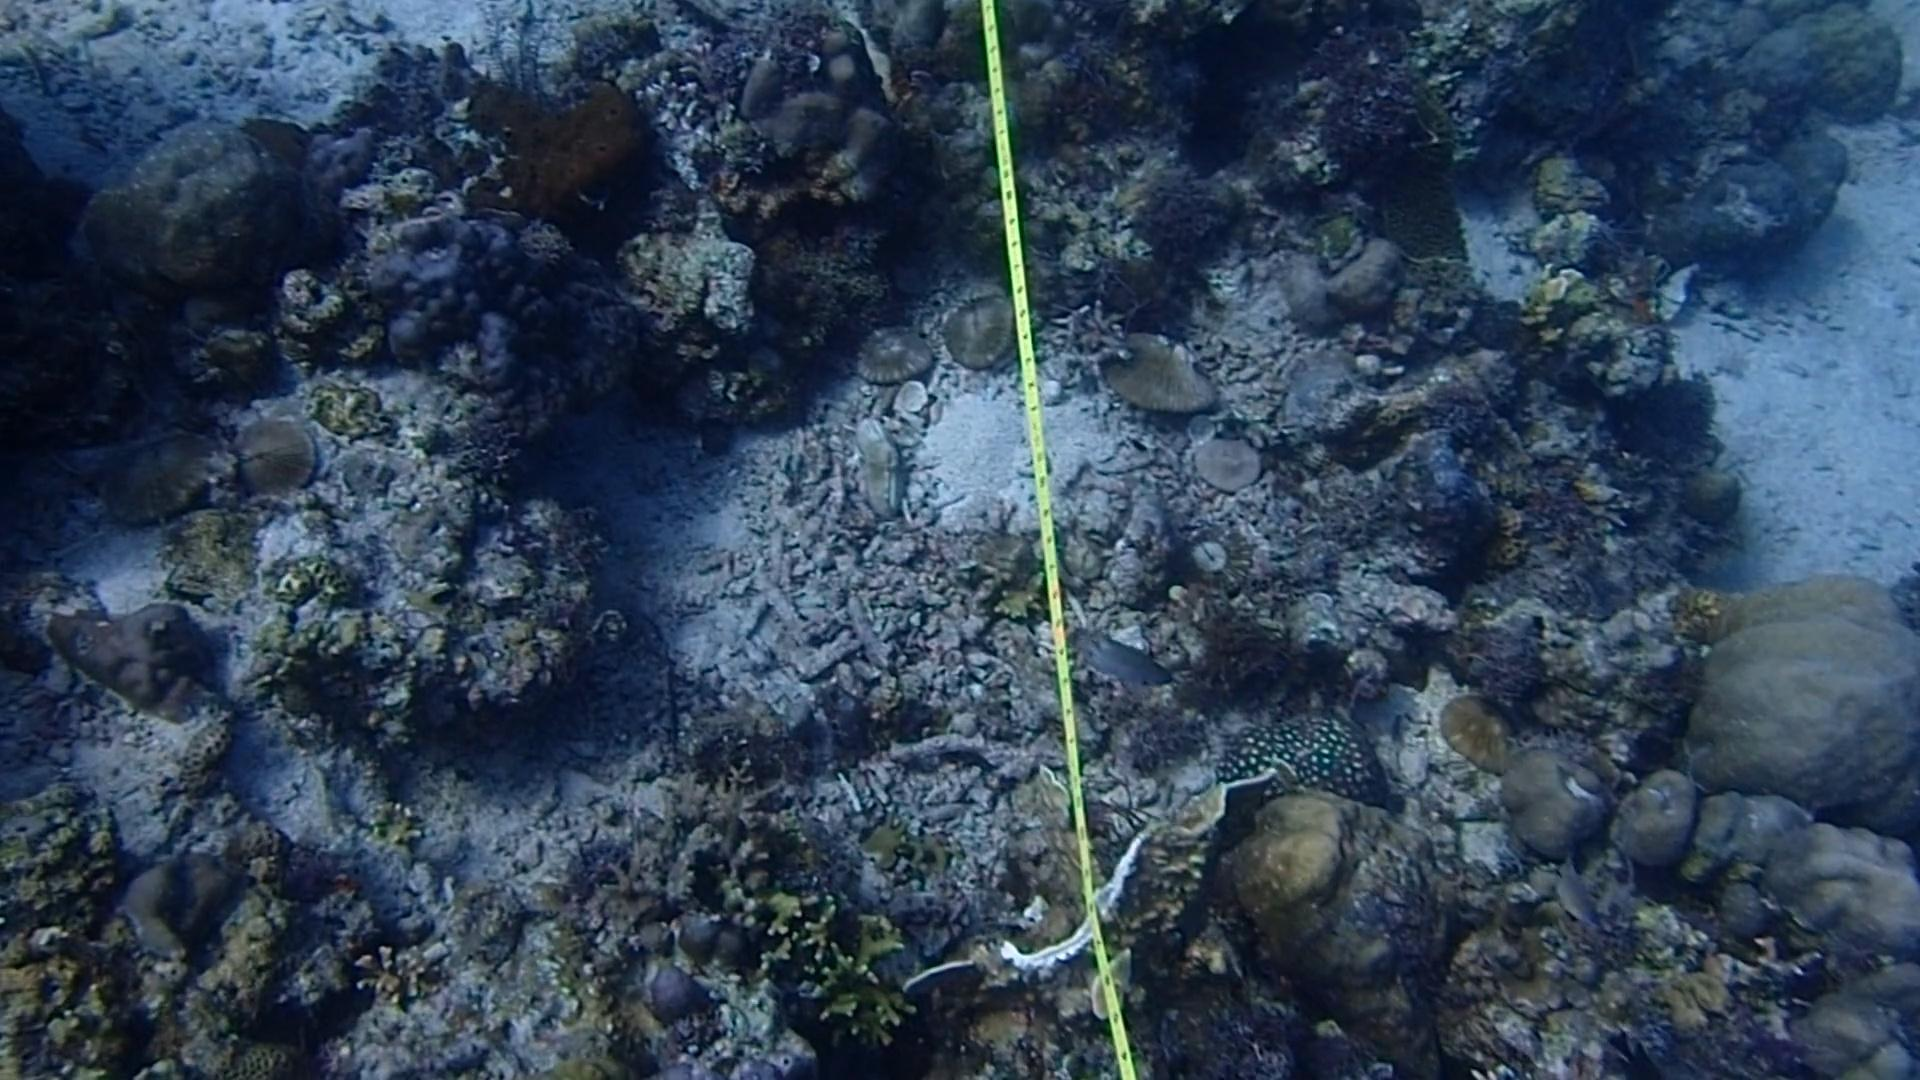Light Fish: (1065, 618, 1176, 700)
